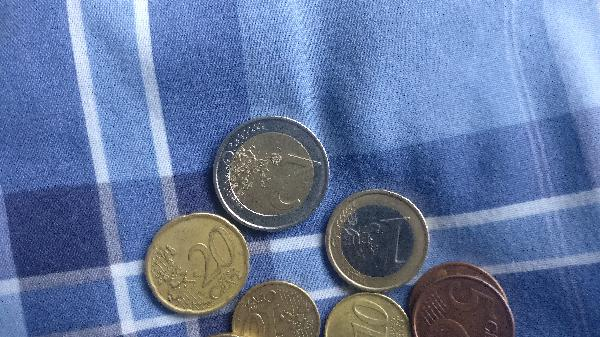Five Cent: (409, 261, 518, 337)
One Euro: (325, 190, 425, 286)
Ten Cent: (238, 282, 317, 337), (320, 291, 409, 335)
Twenty Cent: (143, 211, 247, 309)
Two Euro: (211, 115, 329, 231)
